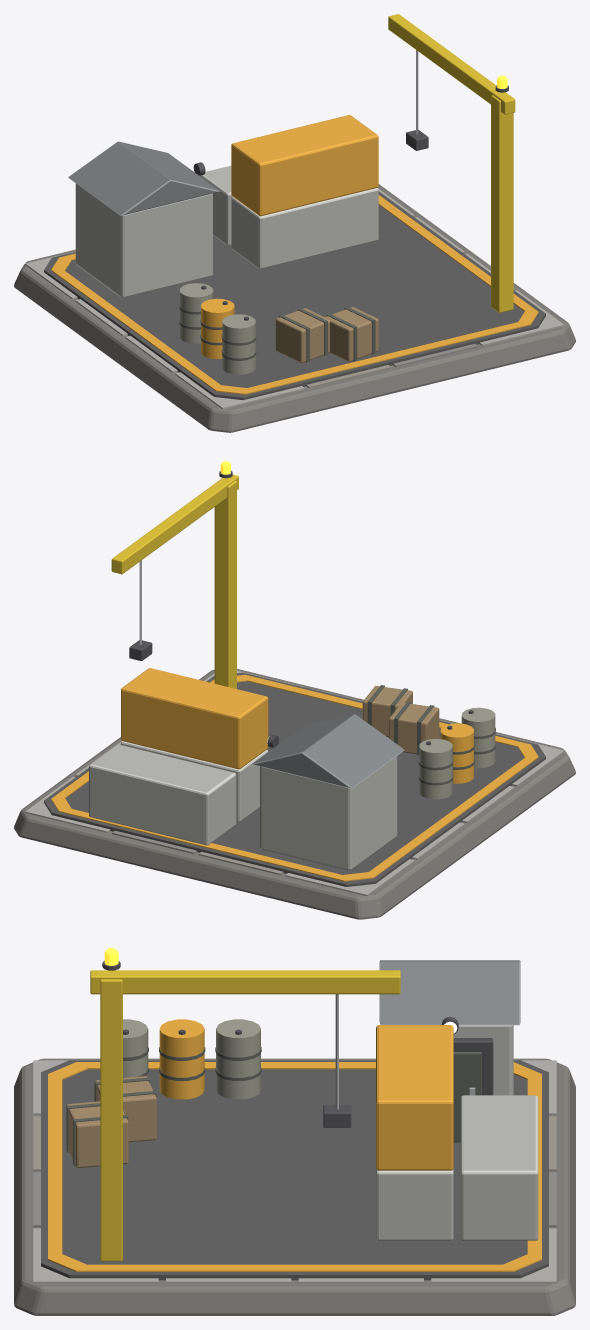
File: supply_depot_orange.glb
The picture shows the model from 3 angles, top to bottom: view 1: azimuth 30°, elevation 25°; view 2: azimuth 150°, elevation 25°; view 3: azimuth 270°, elevation 25°; orthographic projection. The views are drawn at different scales.
Visible parts, largest first — view 1: Body; view 2: Body; view 3: Body.
Part boxes in pixels (x1=…): Body: x1=14, y1=14, x2=575, y2=432; Body: x1=14, y1=461, x2=575, y2=919; Body: x1=14, y1=948, x2=575, y2=1315.
Size of the model in its own units: 3.98 by 2.65 by 3.98.
1 material, 1 textured.
